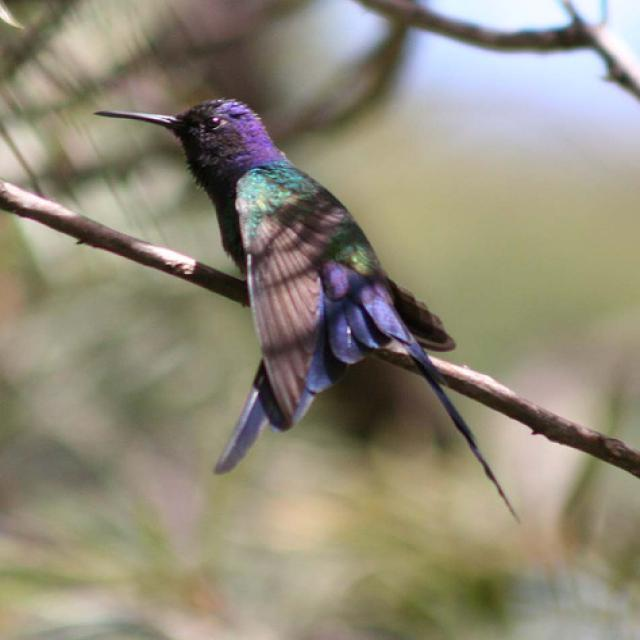bird: (88, 100, 532, 534)
